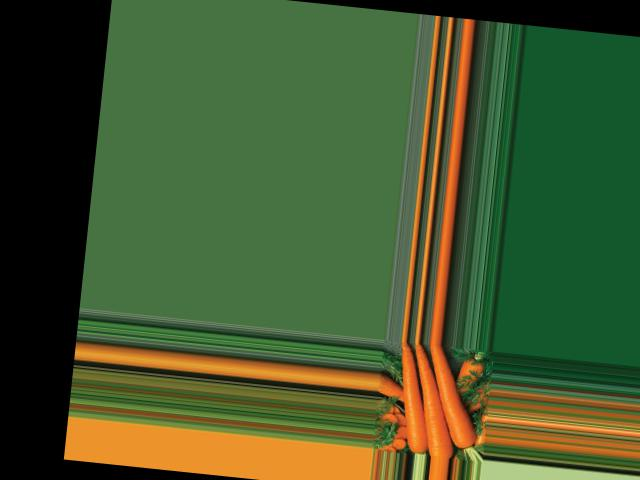carrot: (419, 346, 487, 448)
